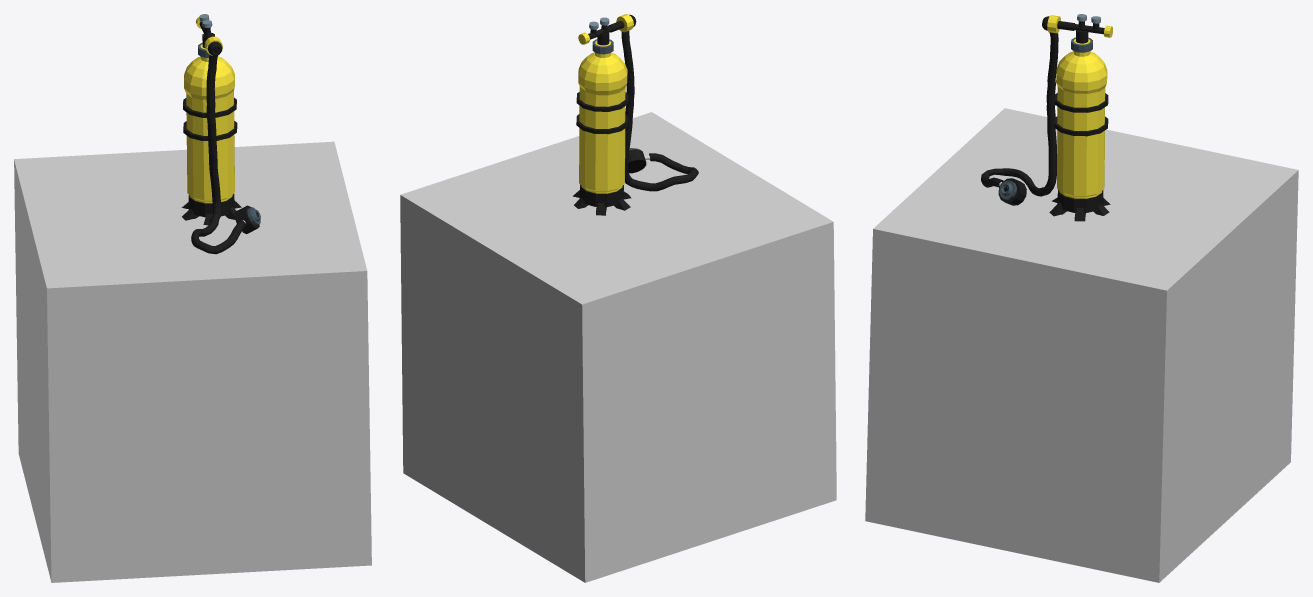
The model's file is oxigen-by-duarte-pires-8BIEnNao1nM.glb.
The picture shows the model from 3 angles, left to right: view 1: azimuth 30°, elevation 25°; view 2: azimuth 150°, elevation 25°; view 3: azimuth 270°, elevation 25°; orthographic projection. The views are drawn at different scales.
Visible parts, largest first — view 1: group976328502, group1225857747, group1931605509, group1365353471, group486443124, group623539447, group621199169; view 2: group976328502, group1225857747, group1931605509, group1365353471, group486443124, group623539447; view 3: group976328502, group1225857747, group1931605509, group1365353471, group486443124, group623539447, group621199169.
Part boxes in pixels (bbox=[...]): group976328502: bbox=[14, 141, 371, 582]; group1225857747: bbox=[186, 91, 234, 203]; group1931605509: bbox=[184, 56, 234, 99]; group1365353471: bbox=[206, 55, 221, 219]; group486443124: bbox=[191, 217, 245, 254]; group623539447: bbox=[188, 194, 234, 217]; group621199169: bbox=[234, 205, 260, 234]; group976328502: bbox=[400, 112, 836, 582]; group1225857747: bbox=[579, 87, 625, 193]; group1931605509: bbox=[578, 52, 627, 95]; group1365353471: bbox=[621, 31, 635, 187]; group486443124: bbox=[631, 153, 698, 191]; group623539447: bbox=[579, 184, 623, 207]; group976328502: bbox=[865, 108, 1298, 582]; group1225857747: bbox=[1057, 86, 1105, 198]; group1931605509: bbox=[1056, 51, 1107, 93]; group1365353471: bbox=[1041, 32, 1058, 195]; group486443124: bbox=[981, 168, 1044, 196]; group623539447: bbox=[1057, 189, 1103, 212]; group621199169: bbox=[998, 178, 1026, 205].
Bounding box in the file's own units: 2 × 2.52 × 2.03.
